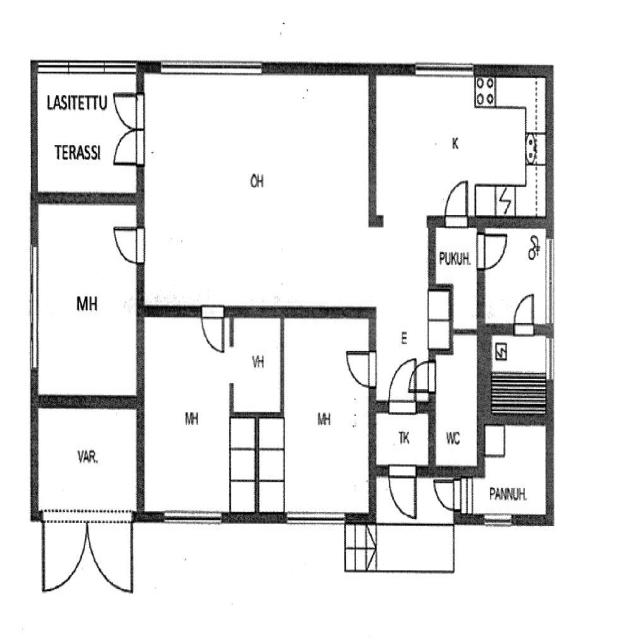door: (86, 519, 136, 597), (41, 520, 88, 595), (387, 463, 419, 522), (441, 175, 472, 226), (111, 221, 144, 266), (199, 303, 227, 356), (388, 354, 416, 406), (478, 229, 510, 272), (111, 89, 142, 133), (111, 124, 142, 166), (343, 347, 375, 387), (512, 288, 538, 332), (432, 474, 459, 514), (409, 358, 432, 393)
window: (25, 243, 41, 372), (160, 507, 226, 531), (287, 508, 348, 530), (543, 232, 557, 324), (480, 511, 516, 530), (545, 334, 556, 382)
zone: (144, 66, 370, 312), (370, 72, 545, 217), (32, 200, 141, 400), (140, 312, 240, 518), (278, 312, 371, 521), (32, 66, 143, 199), (32, 404, 142, 517), (474, 421, 550, 522), (431, 329, 481, 473), (482, 223, 550, 324), (486, 328, 550, 422), (230, 314, 282, 413), (372, 408, 432, 470), (431, 223, 483, 286)
